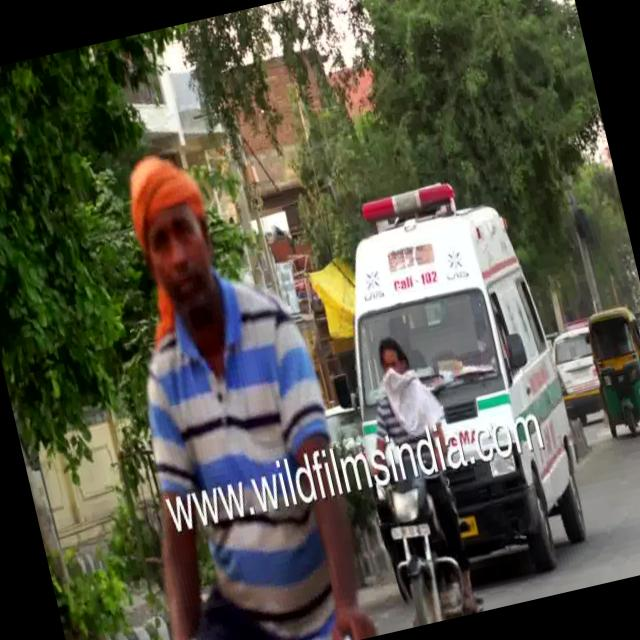ambulance: (316, 164, 532, 346)
